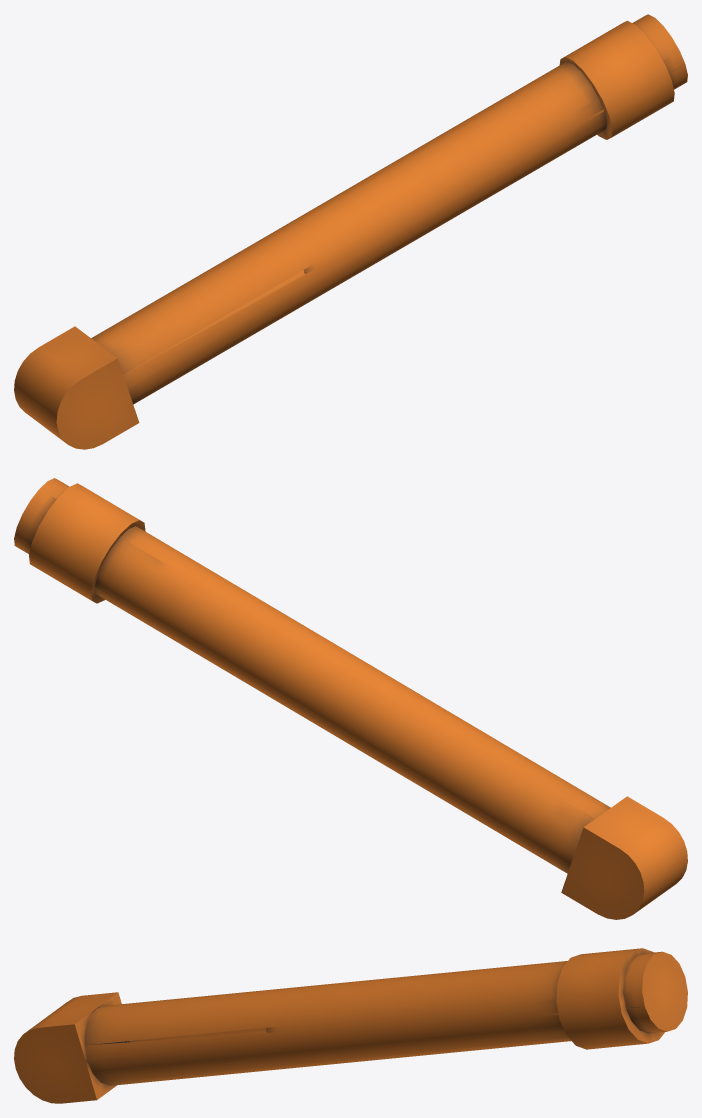
Rendered from zx200-arm-cyl1.dae.
3 views of the same model, one above another, from view 1: azimuth 30°, elevation 25°; view 2: azimuth 150°, elevation 25°; view 3: azimuth 330°, elevation 25° (orthographic).
Visible parts, largest first — view 1: boom-arm-cyl1.002; view 2: boom-arm-cyl1.002; view 3: boom-arm-cyl1.002.
Boxes of the visible parts, bbox=[...] form: boom-arm-cyl1.002: bbox=[14, 14, 687, 449]; boom-arm-cyl1.002: bbox=[14, 478, 687, 919]; boom-arm-cyl1.002: bbox=[14, 948, 687, 1103].
Bounding box in the file's own units: 1.66 × 0.2206 × 0.6858.
1 material, 1 textured.
